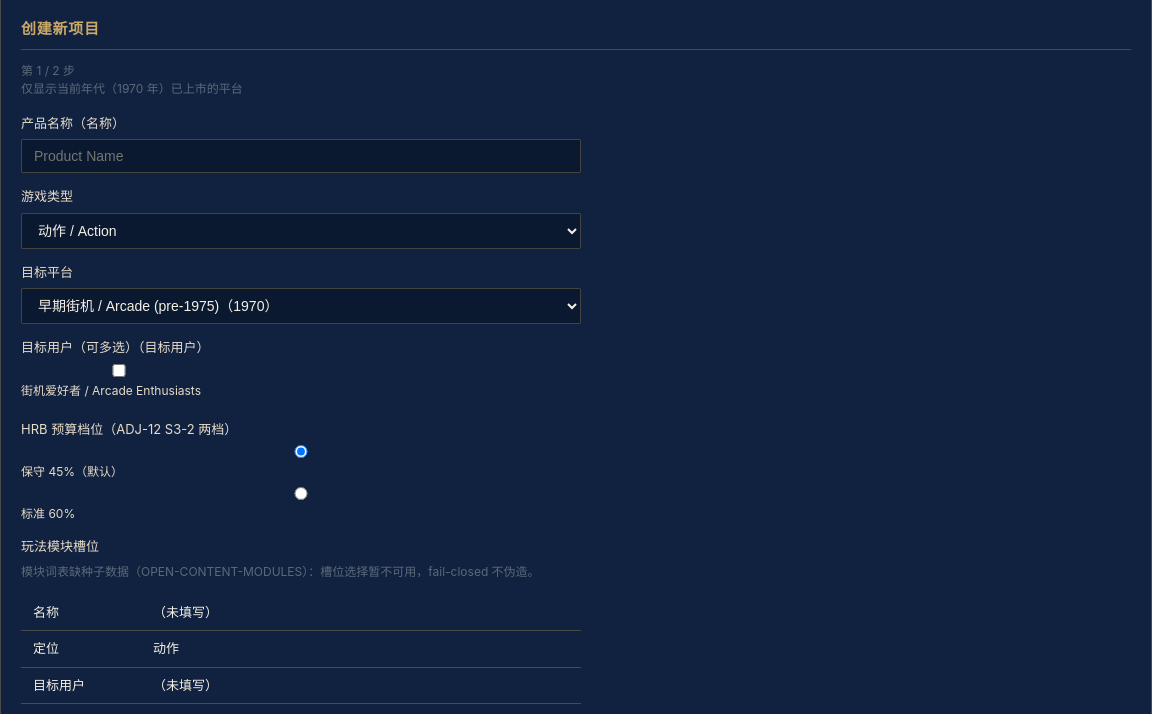
Test: P-03/P-04 立项两步向导 › 预算容量超出可用现金：PROJ_BUDGET_CAPACITY_EXCEEDS_CASH 拒绝（M-01）
Expected: the text with test id "wizard-step" shows "1", [21,62,75,78]
Type "Star Quest" into the field with test id "product-name".
click(301, 156); type("Star Quest")  # box [21,139,581,173]
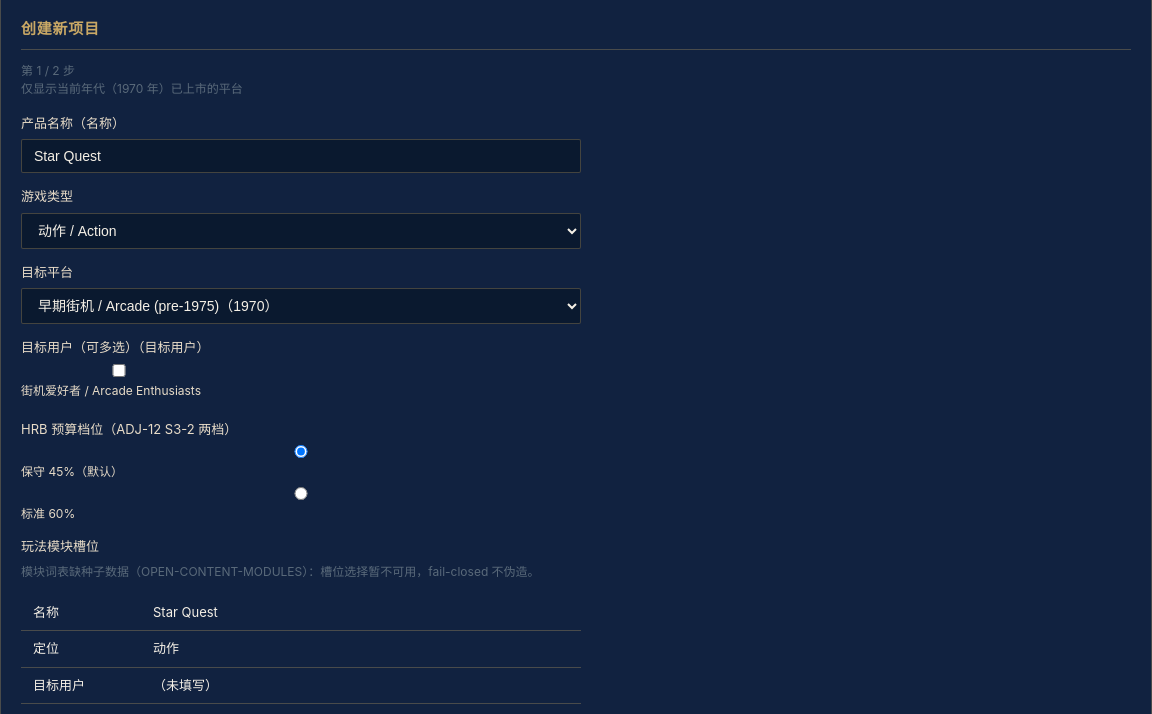
Click the checkbox labelled "街机爱好者 / Arcade Enthusiasts".
click(119, 370)  # box [21,364,217,376]
(page scrolled)
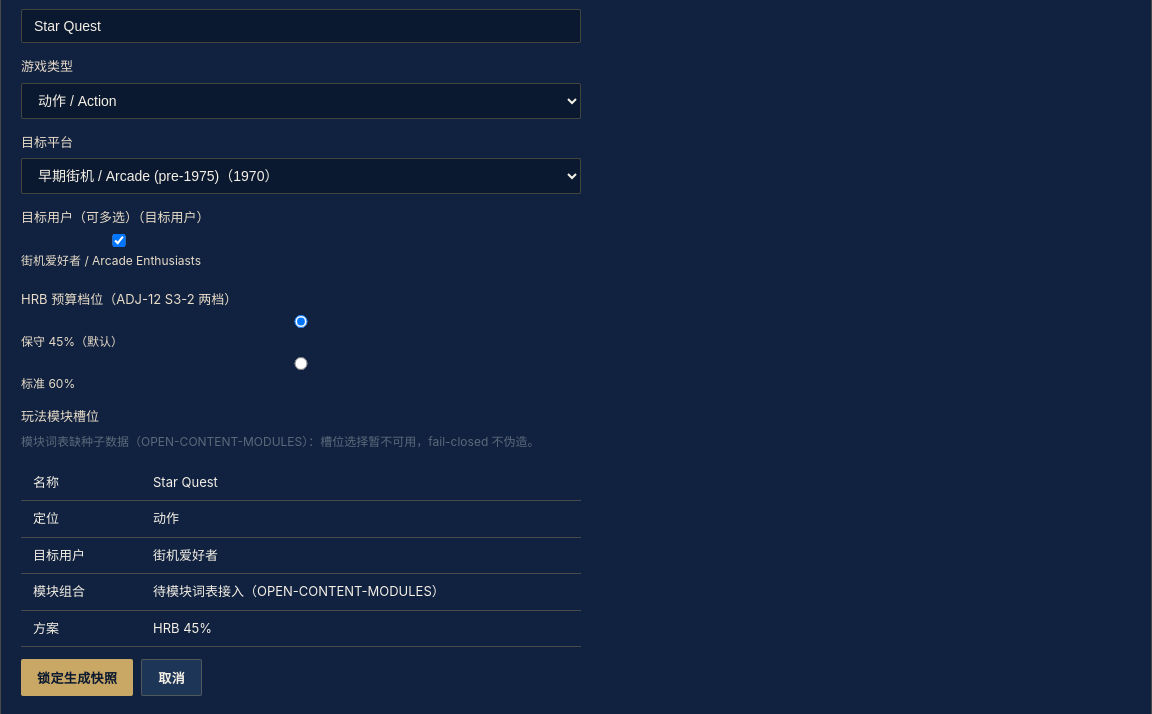
Click the button with test id "lock-snapshot".
click(77, 678)  # box [21,659,133,696]
(page scrolled)
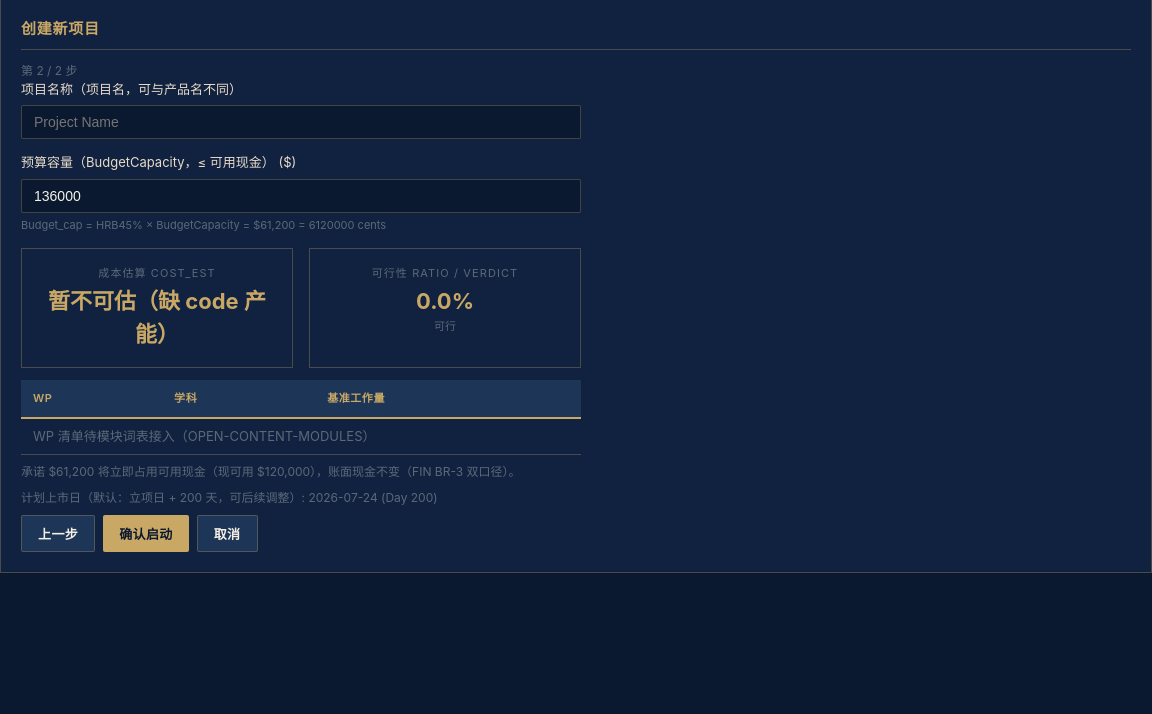
Expected: the text with test id "wizard-step" shows "2", [21,62,78,78]
Replace the text in the number field with test id "budget-capacity" with "5000000" at (301, 196), box [21,178,581,212]
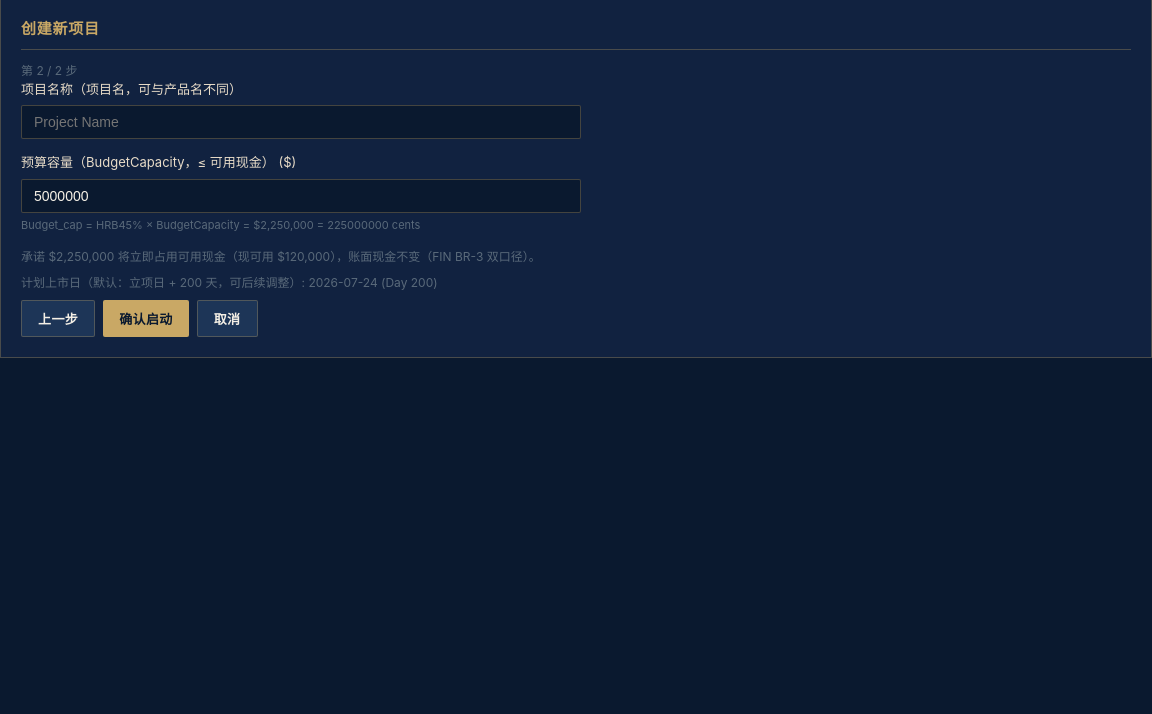
Type "Proj Gamma" into the field with test id "project-name".
click(301, 122); type("Proj Gamma")  # box [21,105,581,139]
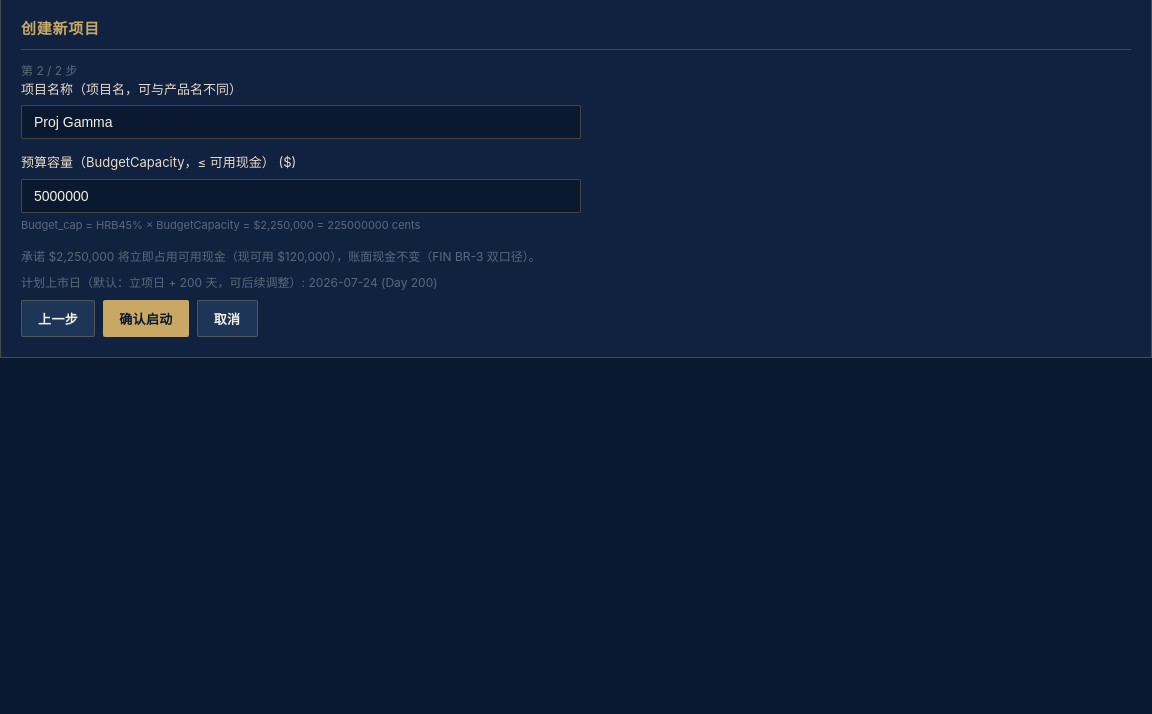
Click the button with test id "confirm-create".
click(146, 318)  # box [103,300,189,336]
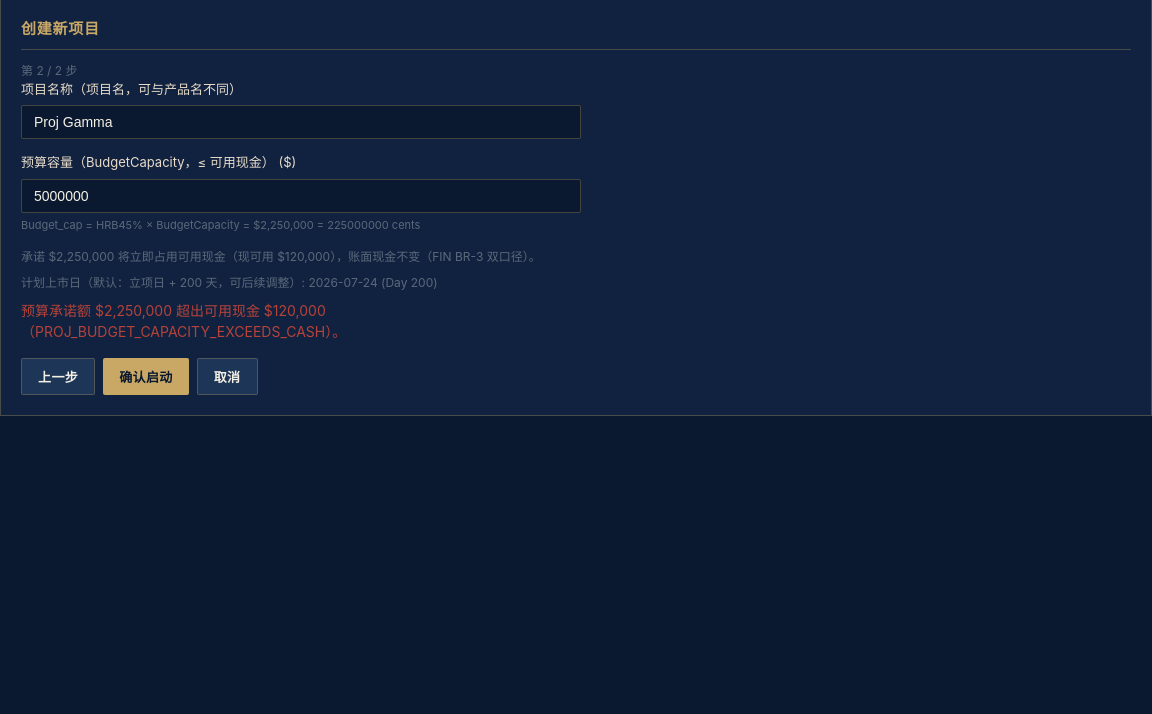
Expected: the text "PROJ_BUDGET_CAPACITY_EXCEEDS_CASH" is shown, [21,302,346,340]
